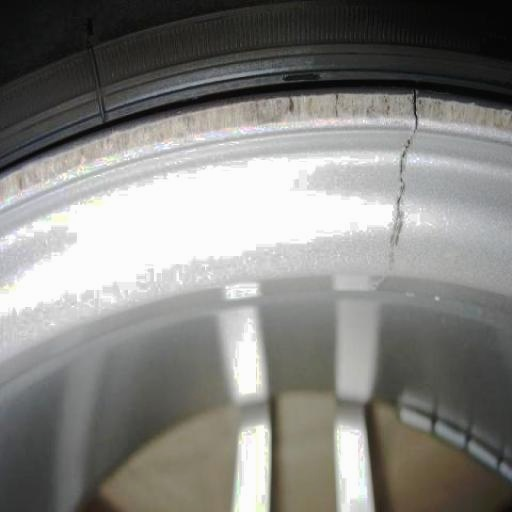crack: (370, 84, 431, 281)
